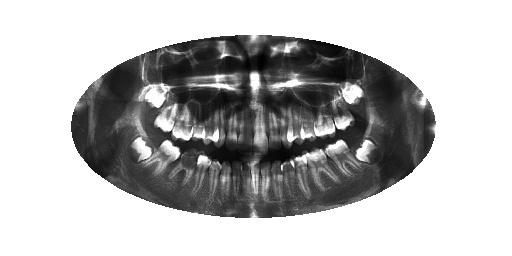i1: (352, 136, 379, 165)
i10decay: (228, 157, 246, 201)
i11decay: (217, 158, 232, 200)
i12healthy: (207, 157, 222, 209)
i13healthy: (191, 152, 211, 197)
i14decay: (168, 147, 197, 189)
i15healthy: (141, 137, 180, 182)
i16chipped: (129, 131, 155, 164)
i2: (323, 139, 365, 177)
i3: (303, 150, 342, 192)
i4: (292, 154, 311, 201)
i5decay: (280, 157, 299, 201)
i6decay: (269, 157, 283, 202)
i7decay: (260, 160, 271, 205)
i8healthy: (247, 154, 263, 204)
i9loss: (240, 159, 251, 205)
u1: (338, 81, 365, 106)
u10decay: (227, 109, 237, 155)
u11decay: (214, 110, 226, 149)
u12healthy: (203, 110, 219, 149)
u13healthy: (192, 115, 205, 145)
u14decay: (170, 103, 193, 142)
u15healthy: (153, 102, 178, 133)
u16healthy: (144, 83, 170, 107)
u2decay: (330, 97, 356, 131)
u3: (312, 102, 338, 136)
u4: (300, 99, 315, 143)
u5: (287, 104, 304, 146)
u6: (280, 107, 294, 152)
u7decay: (268, 108, 283, 154)
u8decay: (252, 106, 270, 158)
u9loss: (238, 108, 253, 159)
